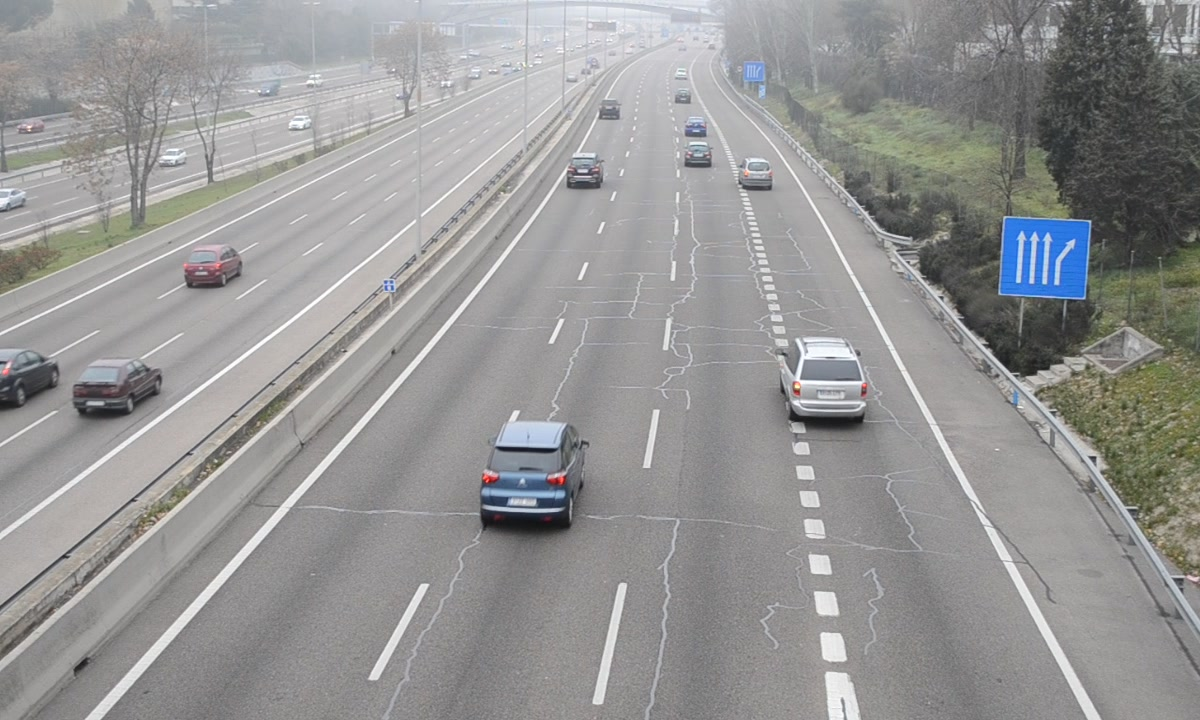car: (481, 421, 584, 524), (784, 337, 869, 418), (566, 153, 602, 191), (738, 156, 773, 190), (683, 141, 713, 170)
